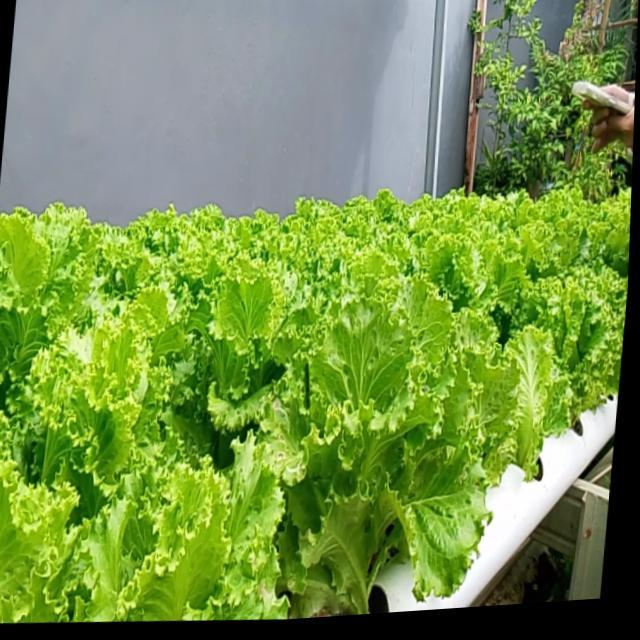Mature: (0, 189, 628, 623), (258, 311, 461, 616), (491, 235, 628, 458)
